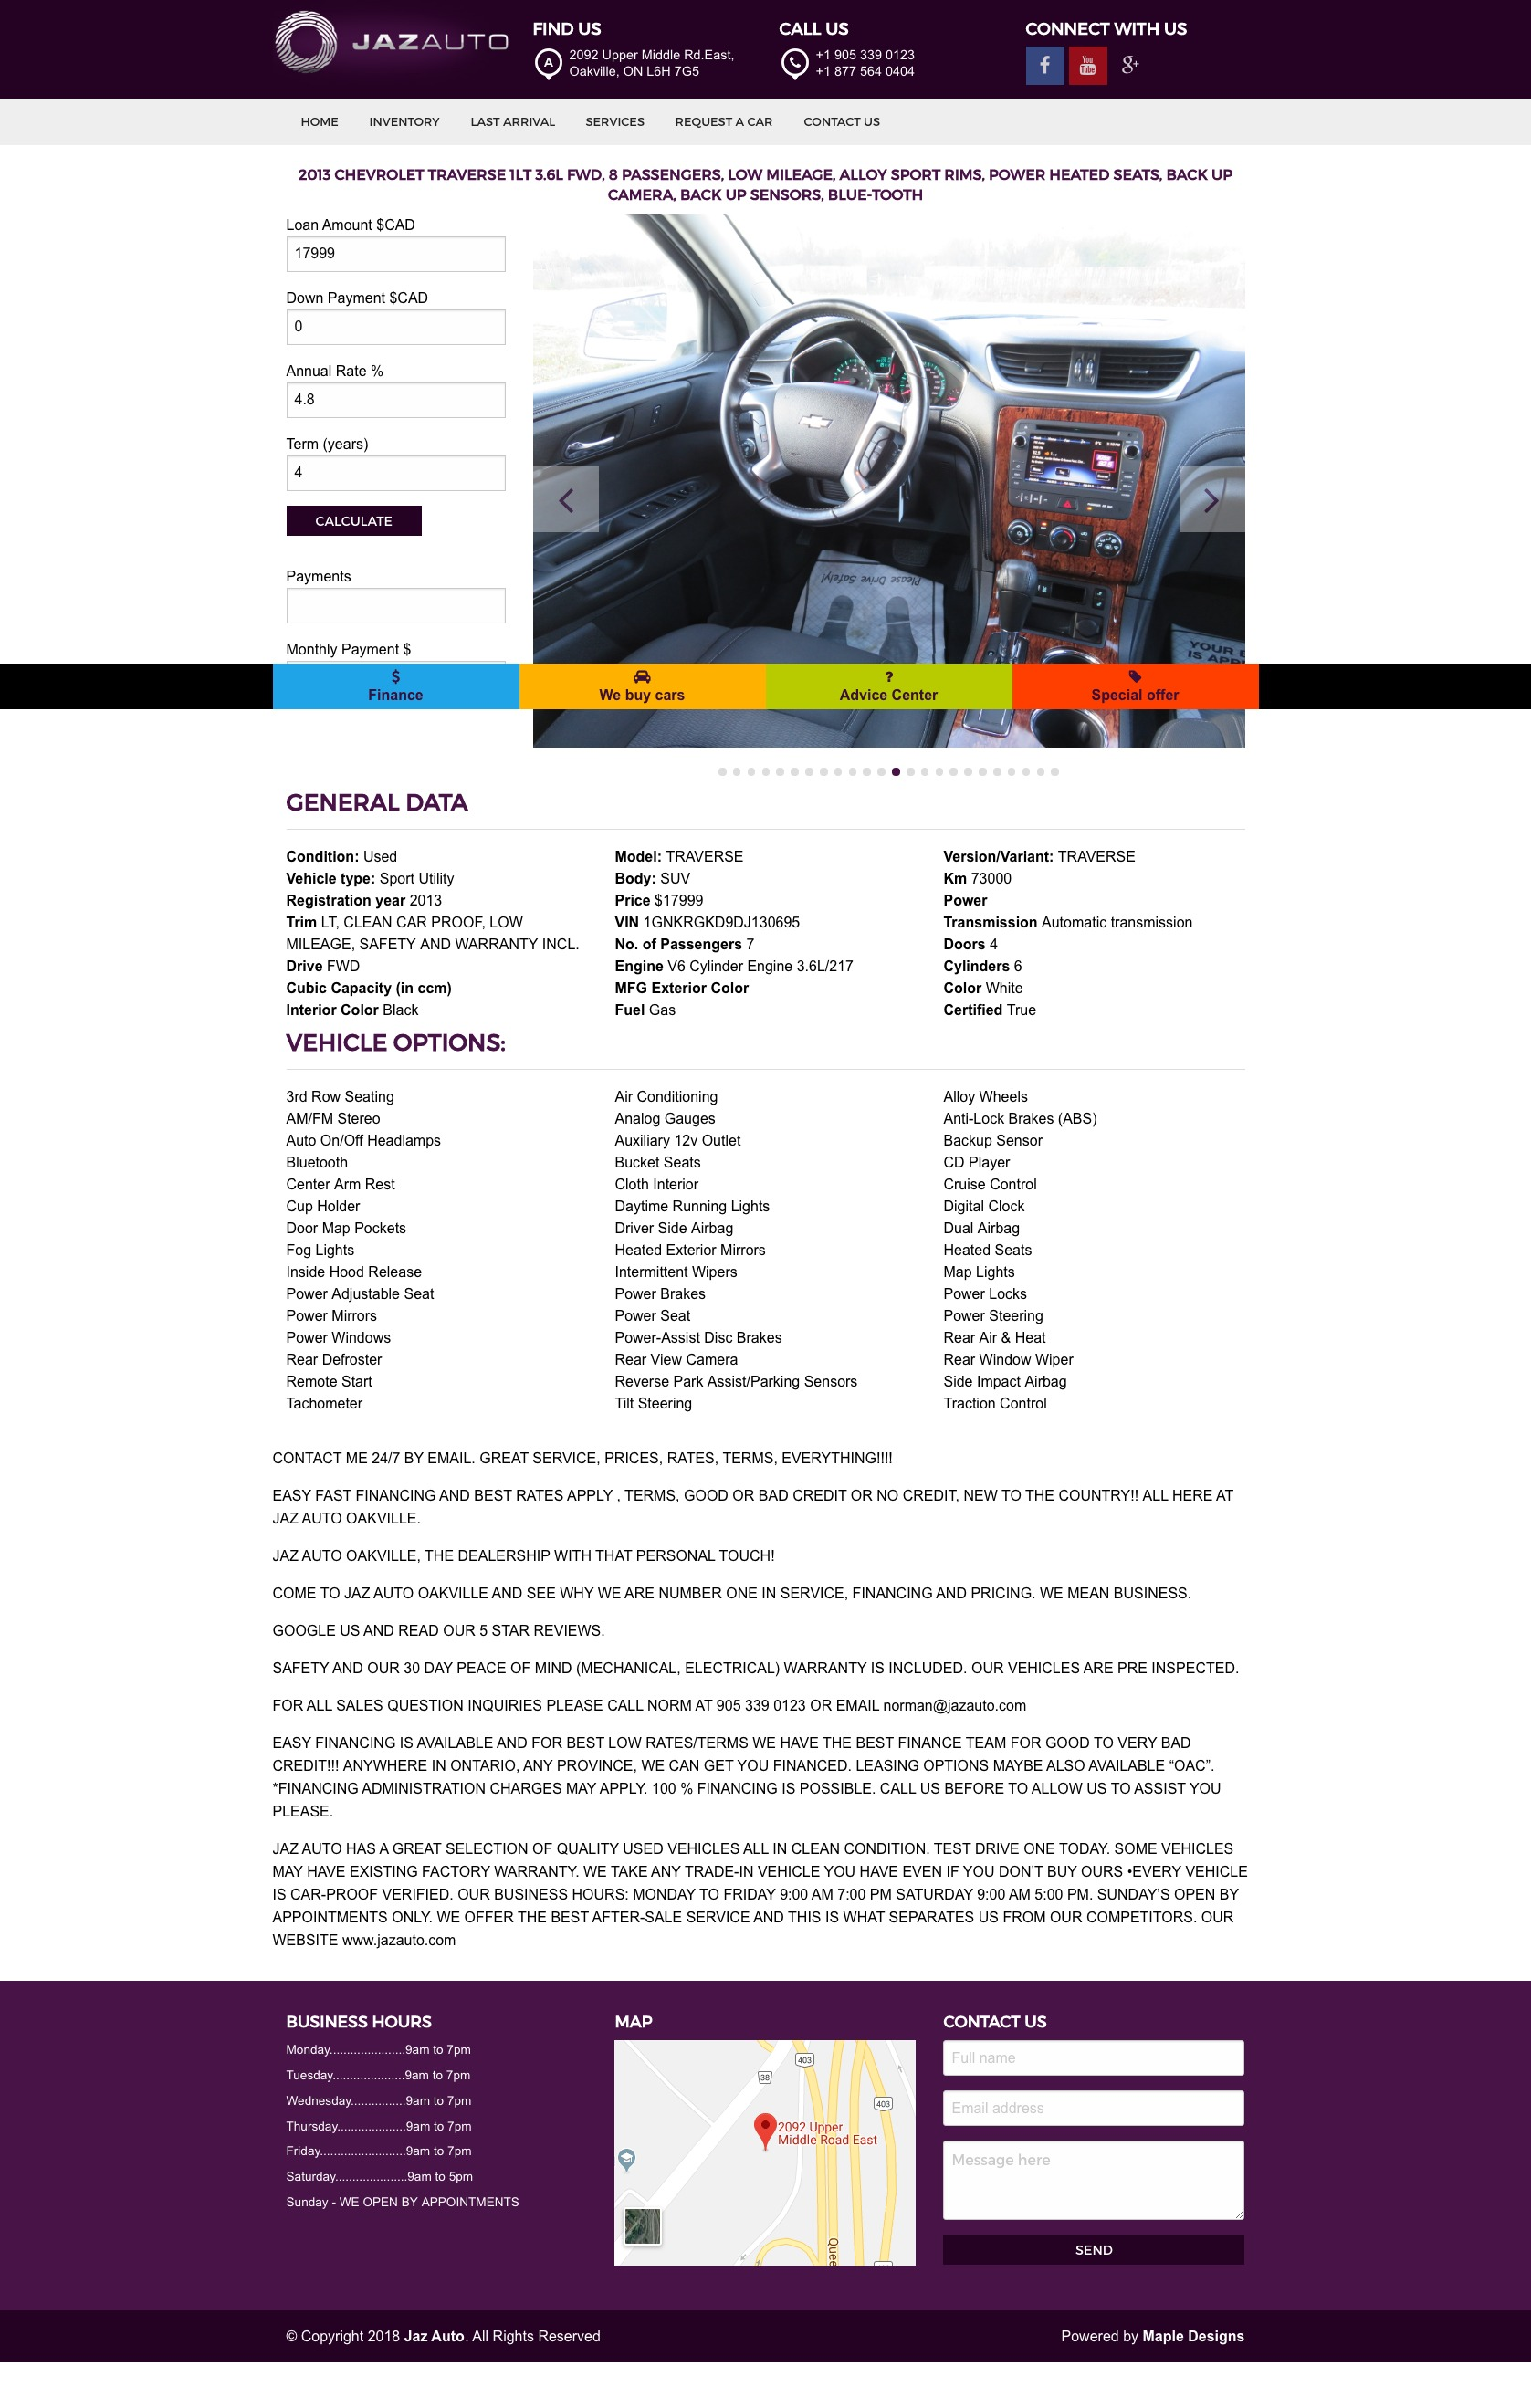car: (1203, 488, 1220, 516)
